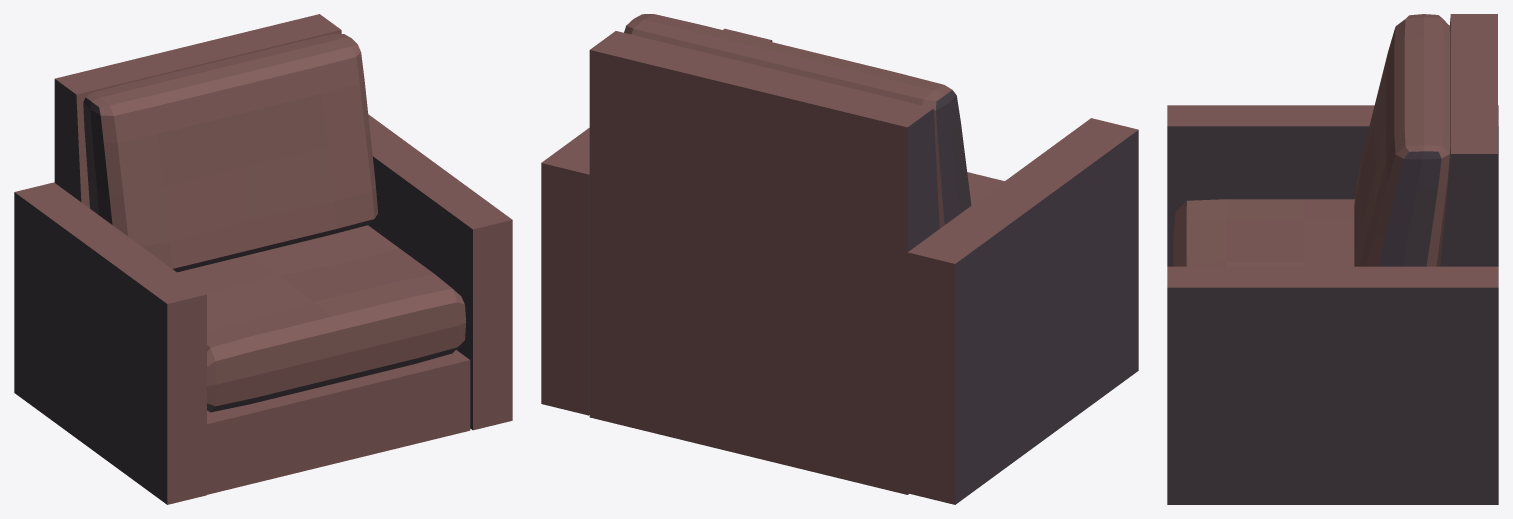
The model's file is Sofa Single.fbx.
3 views of the same model, side by side, from view 1: azimuth 30°, elevation 25°; view 2: azimuth 150°, elevation 25°; view 3: azimuth 270°, elevation 25° (orthographic). The views are drawn at different scales.
Visible parts, largest first — view 1: Sofa Single; view 2: Sofa Single; view 3: Sofa Single.
Boxes of the visible parts, bbox=[...] form: Sofa Single: bbox=[14, 14, 512, 504]; Sofa Single: bbox=[541, 14, 1138, 504]; Sofa Single: bbox=[1167, 14, 1498, 504].
Size of the model in its own units: 261 by 223 by 200.
